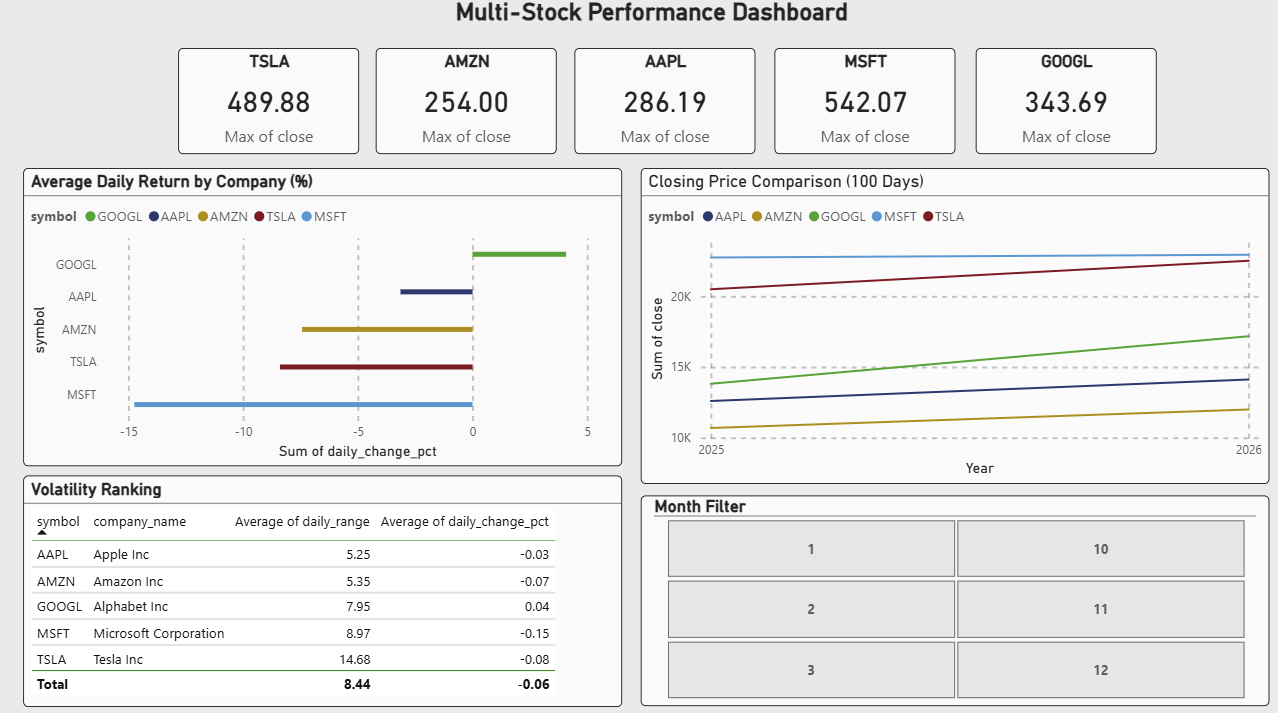

What the dashboard file says about the page in this screenshot:
{"tool":"powerbi","page":{"name":"Stock Performance","canvas":[1280,720],"ordinal":0},"visuals":[{"type":"lineChart","title":"Closing Price Comparison (100 Days)","fields":{"Category":["flat_view.date.Variation.Date Hierarchy.Year","flat_view.date.Variation.Date Hierarchy.Quarter","flat_view.date.Variation.Date Hierarchy.Month","flat_view.date.Variation.Date Hierarchy.Day"],"Y":["Sum(flat_view.close)"],"Series":["flat_view.symbol"]},"box":[640.8,174.8,625.9,314.3],"z":0},{"type":"clusteredBarChart","title":"Average Daily Return by Company (%)","fields":{"Category":["flat_view.symbol"],"Y":["Sum(flat_view.daily_change_pct)"],"Series":["flat_view.symbol"]},"box":[25.7,174.8,596.1,296.7],"z":1000},{"type":"slicer","title":"Month Filter","fields":{"Values":["flat_view.month"]},"box":[640.8,499.9,625.9,210],"z":2000},{"type":"card","title":"TSLA","fields":{"Values":["Max(flat_view.close)"]},"box":[180.2,54.2,180.2,105.7],"z":3000},{"type":"card","title":"AAPL","fields":{"Values":["Max(flat_view.close)"]},"box":[574.4,54.2,180.2,105.7],"z":4000},{"type":"card","title":"MSFT","fields":{"Values":["Max(flat_view.close)"]},"box":[773.6,54.2,180.2,105.7],"z":5000},{"type":"card","title":"AMZN","fields":{"Values":["Max(flat_view.close)"]},"box":[376.6,54.2,180.2,105.7],"z":6000},{"type":"card","title":"GOOGL","fields":{"Values":["Max(flat_view.close)"]},"box":[974.1,54.2,180.2,105.7],"z":7000},{"type":"tableEx","title":"Volatility Ranking","fields":{"Values":["flat_view.symbol","flat_view.company_name","Avg(flat_view.daily_range)","Avg(flat_view.daily_change_pct)"]},"box":[25.7,479.6,596.1,230.3],"z":8000},{"type":"textbox","box":[451.1,0,413.2,44.7],"z":8001}]}

Visuals, with their boxes in screenshot pixels (x1, y1, x2, y2), scaled from the page's 1280x720 canvas onto the 1278x713 screenshot:
"Closing Price Comparison (100 Days)" lineChart: (640, 173, 1265, 484)
"Average Daily Return by Company (%)" clusteredBarChart: (26, 173, 621, 467)
"Month Filter" slicer: (640, 495, 1265, 703)
"TSLA" card: (180, 54, 360, 158)
"AAPL" card: (574, 54, 753, 158)
"MSFT" card: (772, 54, 952, 158)
"AMZN" card: (376, 54, 556, 158)
"GOOGL" card: (973, 54, 1152, 158)
"Volatility Ranking" tableEx: (26, 475, 621, 703)
textbox: (450, 0, 863, 44)
